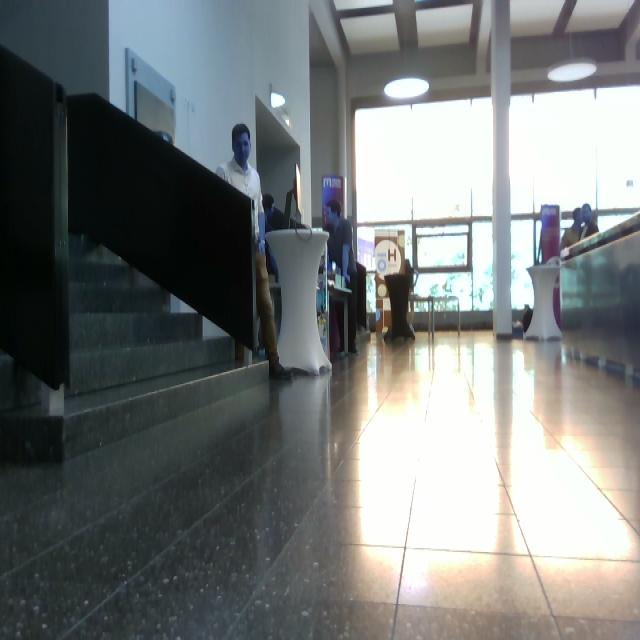light bulb: (547, 34, 597, 84), (547, 59, 597, 83), (384, 77, 430, 100), (271, 92, 286, 109), (281, 111, 291, 127)
person: (216, 124, 294, 381), (326, 200, 359, 357)
pillar: (490, 1, 514, 340)
table: (264, 226, 336, 381)
tiled floor: (1, 325, 639, 638)
